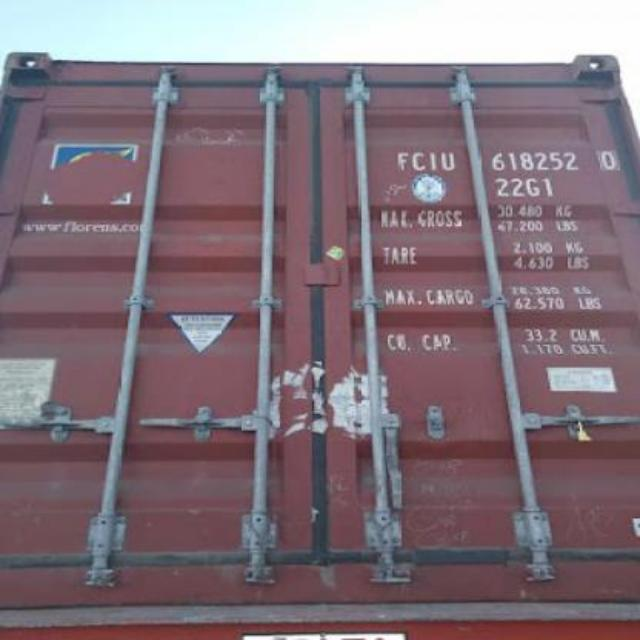0: (598, 150, 620, 170)
1: (506, 150, 520, 172)
2: (534, 152, 552, 172), (564, 150, 580, 172)
5: (548, 150, 566, 172)
6: (488, 150, 508, 172)
8: (518, 150, 536, 172)
C: (412, 152, 430, 172)
F: (398, 152, 410, 172)
I: (424, 150, 440, 172)
U: (440, 150, 458, 172)
